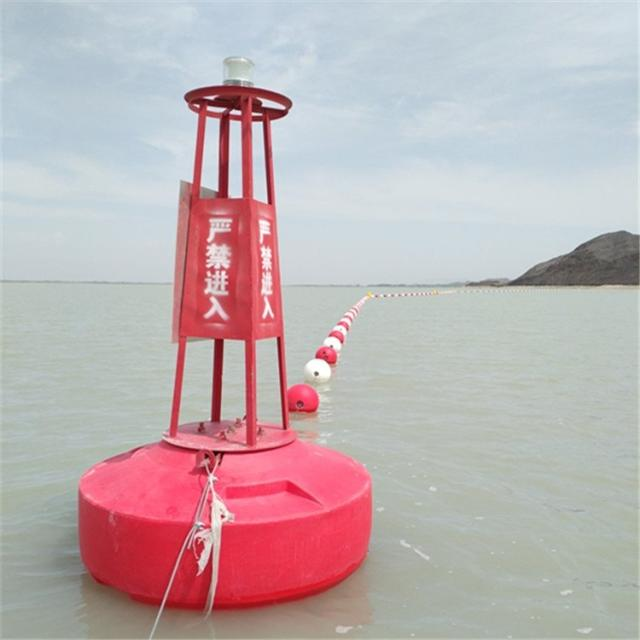buoy: (81, 54, 364, 605)
